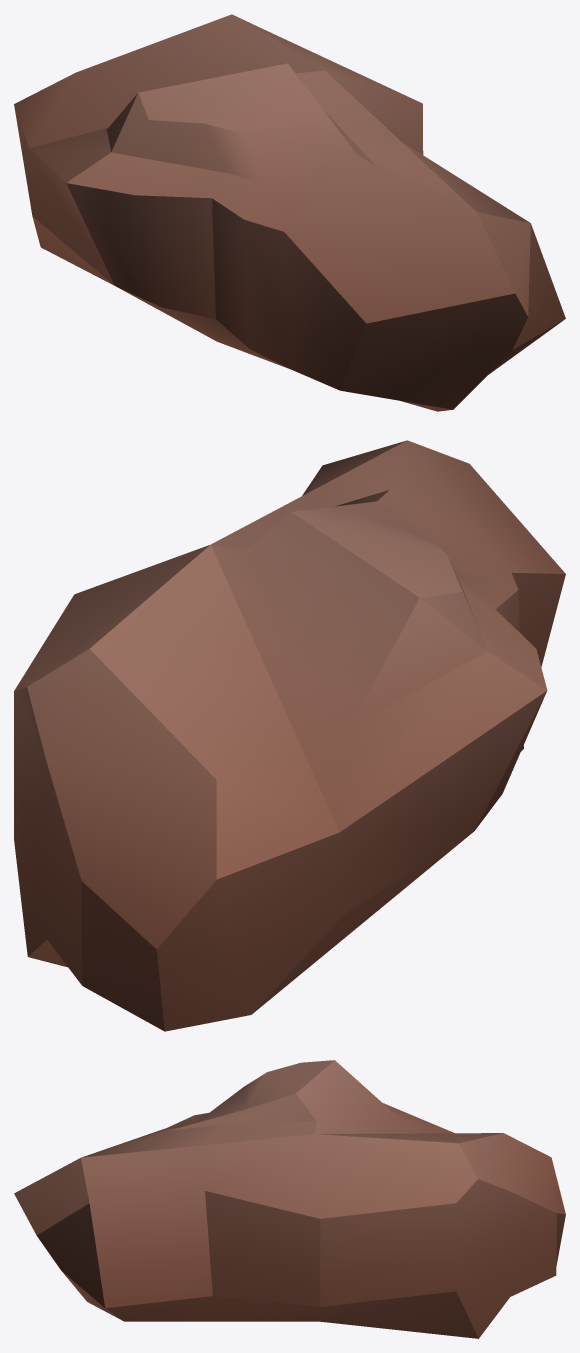
File: Prop_stone_05.fbx
The picture shows the model from 3 angles, top to bottom: view 1: azimuth 30°, elevation 25°; view 2: azimuth 150°, elevation 25°; view 3: azimuth 270°, elevation 25°; orthographic projection. The views are drawn at different scales.
Parts seen in each view (by area): view 1: Stone_5; view 2: Stone_5; view 3: Stone_5.
Part boxes in pixels (x1,y1,x2,y2): Stone_5: (14, 14, 565, 411); Stone_5: (14, 440, 565, 1031); Stone_5: (14, 1060, 565, 1338).
Bounding box in the file's own units: 302 × 219 × 513.
